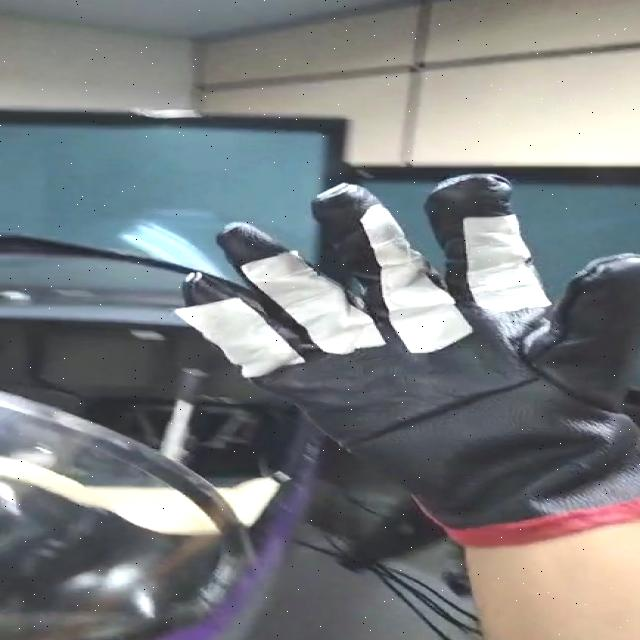Gloves: (178, 168, 640, 525)
